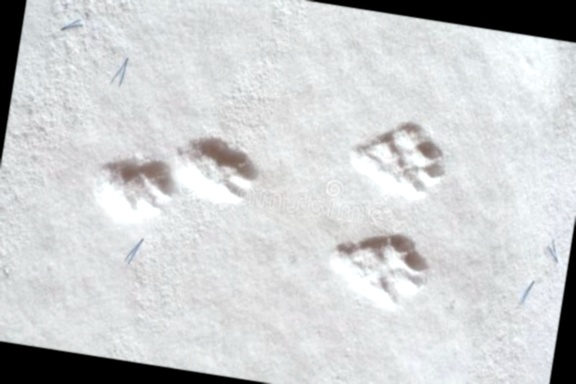lapin: (334, 102, 464, 211), (313, 211, 443, 319), (86, 143, 183, 228), (172, 124, 268, 204)
